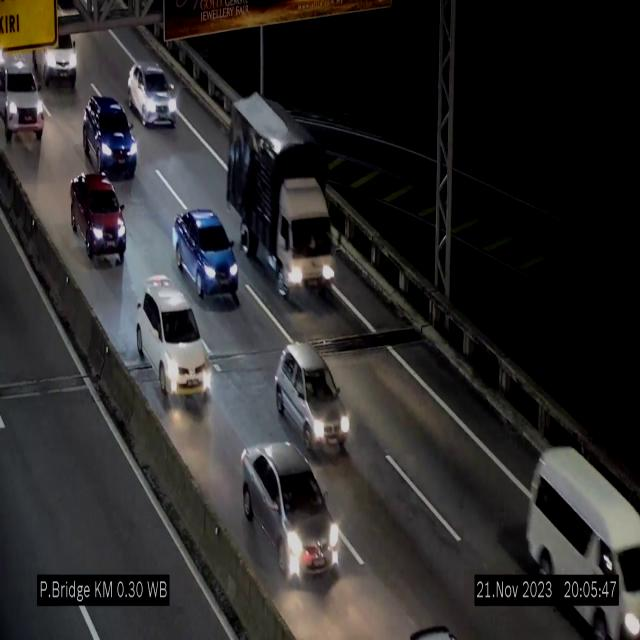Car: (520, 421, 640, 640), (233, 440, 339, 584), (136, 278, 212, 410), (275, 342, 349, 456), (0, 39, 64, 148), (173, 208, 239, 302), (70, 174, 126, 262), (83, 95, 138, 177), (32, 20, 90, 88), (127, 62, 178, 126)
Truck: (227, 91, 335, 305)
